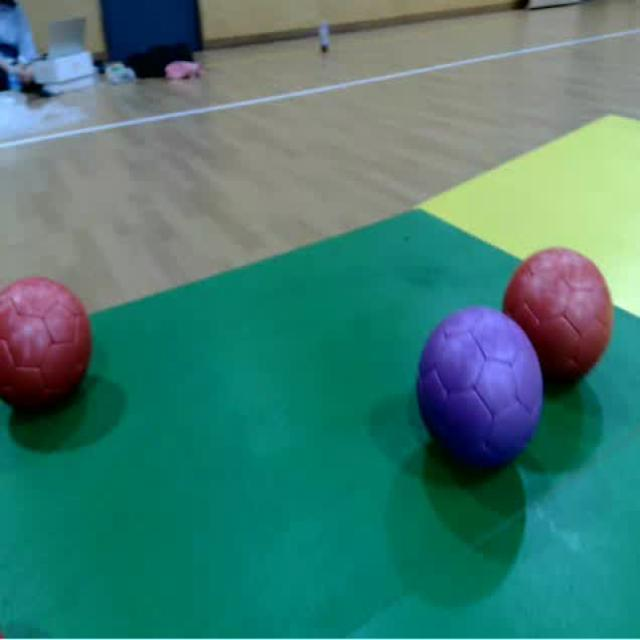purple_ball: (417, 311, 541, 471)
red_ball: (507, 250, 612, 386), (0, 276, 93, 408)
